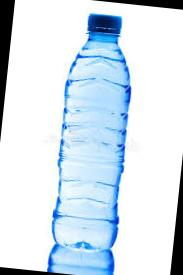plastic: (27, 3, 159, 259)
